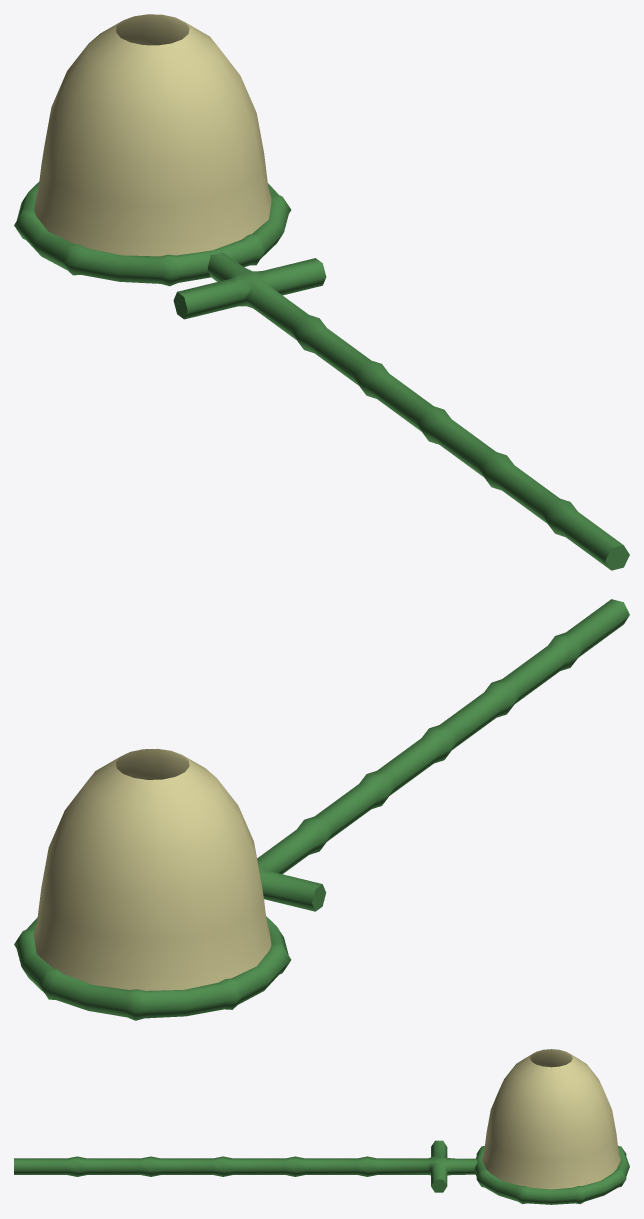
The model's file is FishingNet.fbx.
3 views of the same model, one above another, from view 1: azimuth 30°, elevation 25°; view 2: azimuth 150°, elevation 25°; view 3: azimuth 270°, elevation 25° (orthographic). The views are drawn at different scales.
Parts seen in each view (by area): view 1: Net.002; view 2: Net.002; view 3: Net.002.
Boxes of the visible parts, left/top/right/bottom form: Net.002: left=14, top=14, right=629, bottom=570; Net.002: left=14, top=599, right=629, bottom=1020; Net.002: left=14, top=1049, right=629, bottom=1204.
Bounding box in the file's own units: 43.89 × 35.96 × 172.
